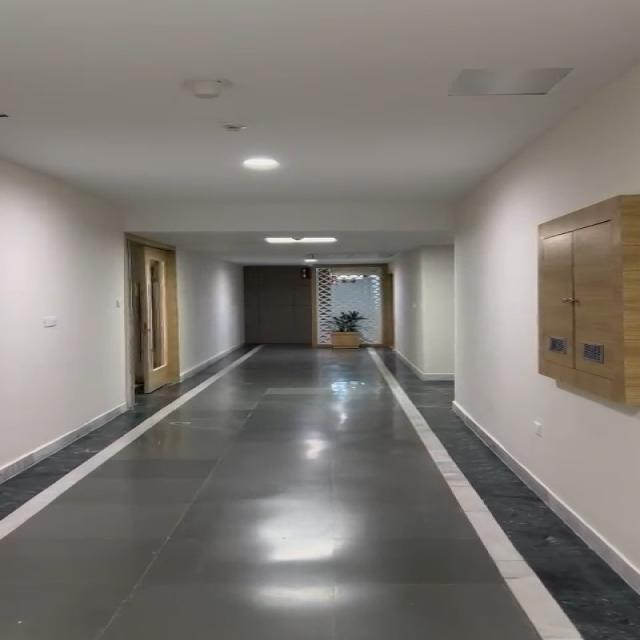door: (123, 239, 191, 404)
floor: (0, 474, 572, 640), (216, 357, 406, 485)
furniture: (323, 302, 379, 357)
wall: (0, 154, 129, 417), (417, 185, 541, 397), (491, 402, 640, 494), (185, 236, 238, 337)
